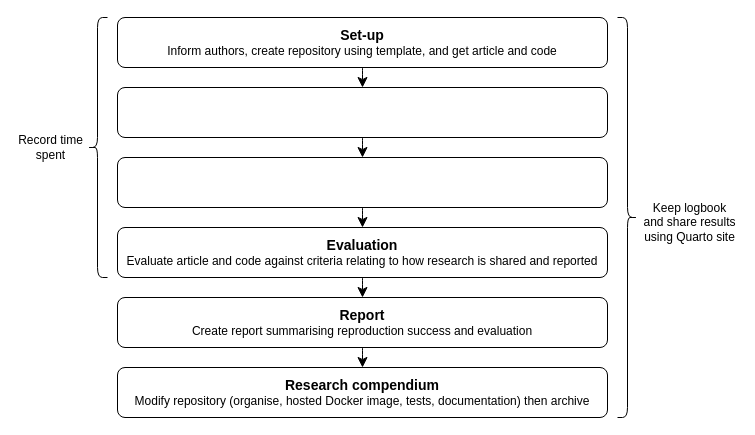
Some shapes in this 755 by 435 pixel diagram are drawn without their labels. Here are the shapes that lost their labels. From the top down, the centre of each, then its label:
(362,112): Scope Read article, define scope of reproduction, and archive on Zenodo
(362,182): Run model Look at code, make environment, and attempt to reproduce results
